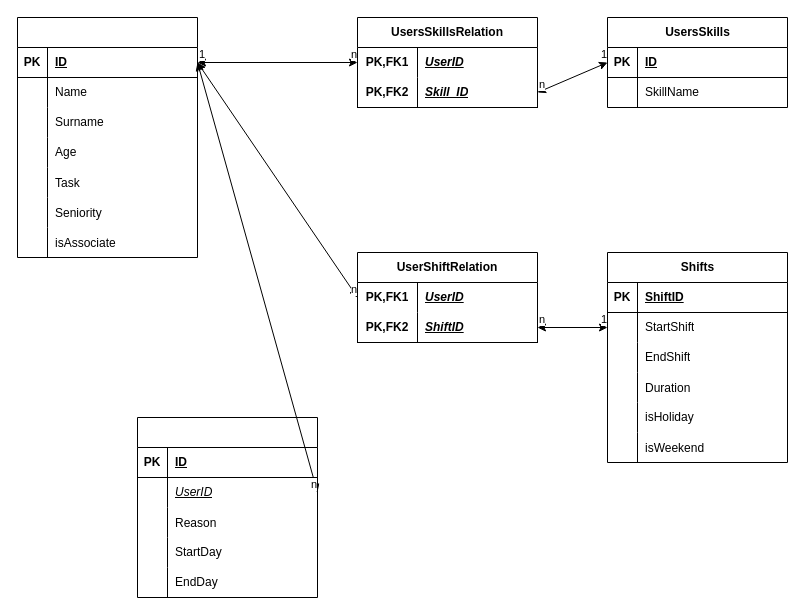
Image size: 805x615. Some labels were removed from this diagram. Each missing label, with the box of its shape:
UsersPersonalData: (16, 16, 198, 258)
VacationDays: (136, 416, 318, 598)
